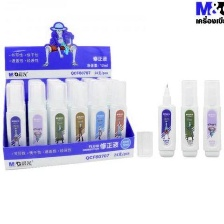book: (0, 18, 135, 173)
correction_fluid: (3, 81, 28, 166), (46, 80, 71, 160), (26, 79, 49, 163), (87, 78, 110, 156), (201, 78, 223, 159), (67, 80, 89, 158), (179, 77, 200, 158), (106, 79, 128, 154), (155, 82, 176, 159)
